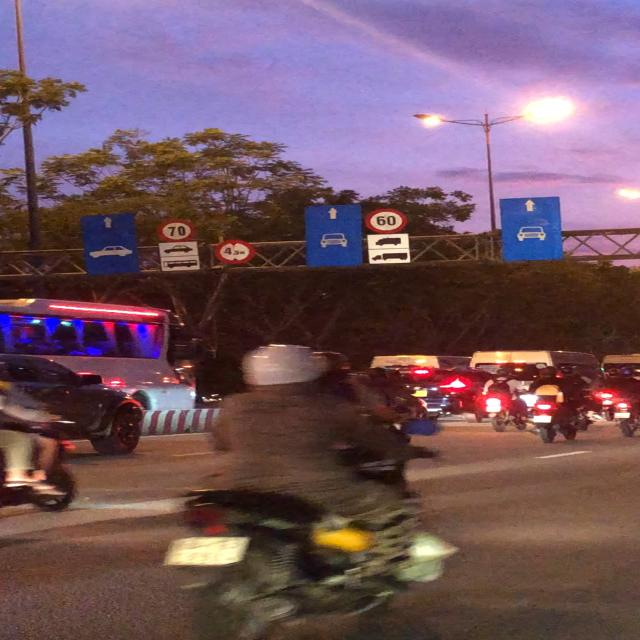Bien bao han che chieu cao: (217, 238, 266, 265)
Bien bao toc do toi da cho phep: (360, 208, 412, 233), (153, 218, 197, 242)
